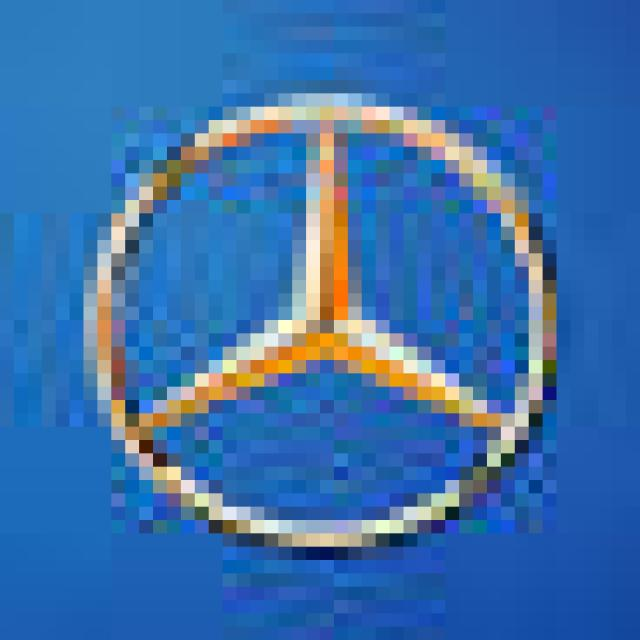mercedes: (96, 81, 565, 570)
